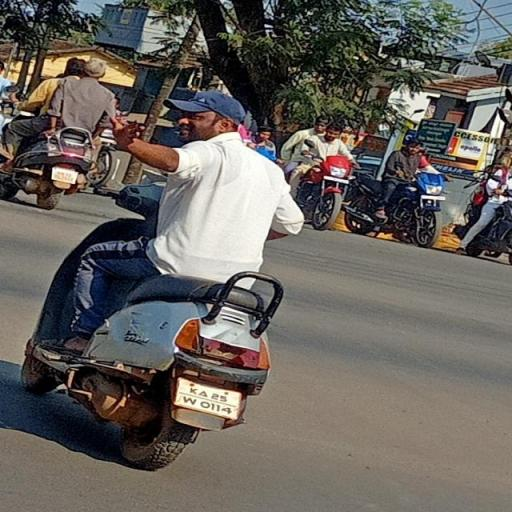bike: (23, 86, 323, 466)
numberplate: (172, 376, 248, 428)
withouthelmet: (180, 94, 246, 136)
